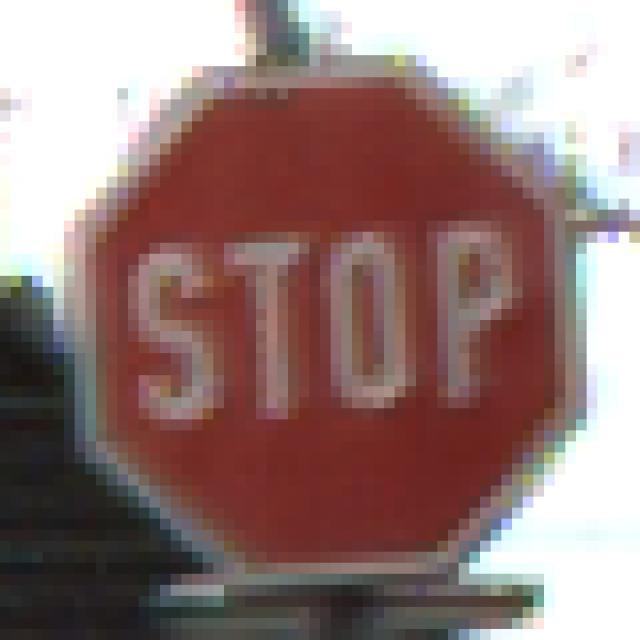STOP: (65, 56, 577, 575)
